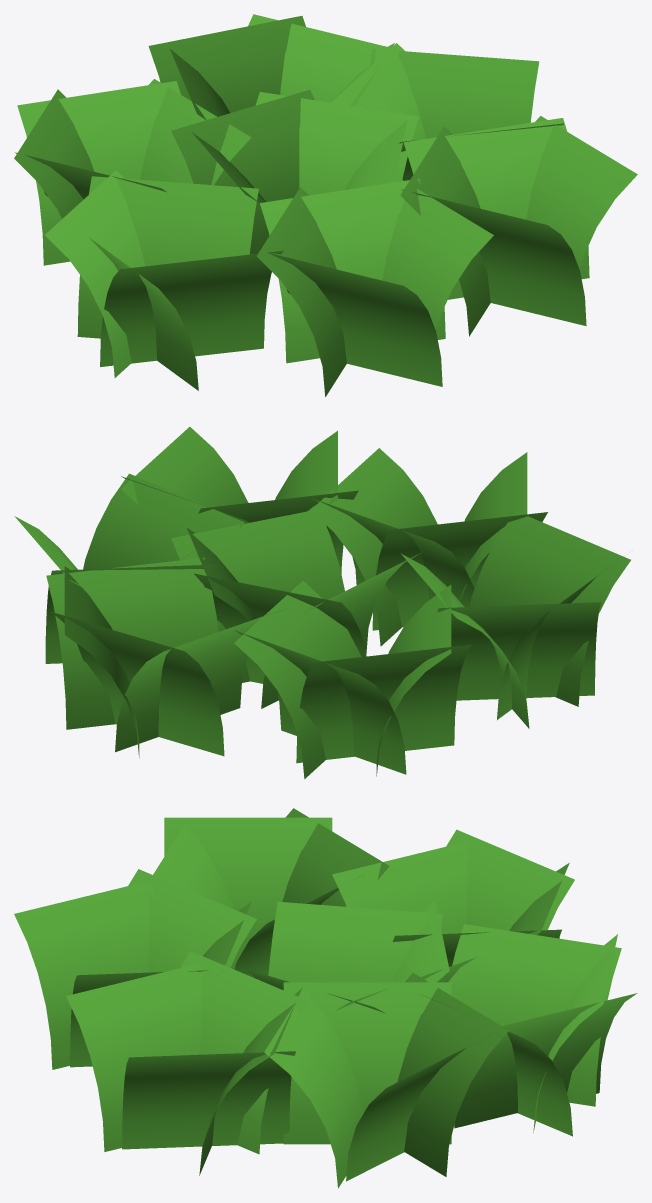
File: SM_grass_patch.fbx
The picture shows the model from 3 angles, top to bottom: view 1: azimuth 30°, elevation 25°; view 2: azimuth 150°, elevation 25°; view 3: azimuth 270°, elevation 25°; orthographic projection. The views are drawn at different scales.
Parts seen in each view (by area): view 1: Plane141218; view 2: Plane141218; view 3: Plane141218.
Part boxes in pixels (bbox=[...]): Plane141218: bbox=[14, 14, 637, 396]; Plane141218: bbox=[14, 427, 630, 778]; Plane141218: bbox=[14, 808, 637, 1188].
Size of the model in its own units: 131 by 30.42 by 130.
